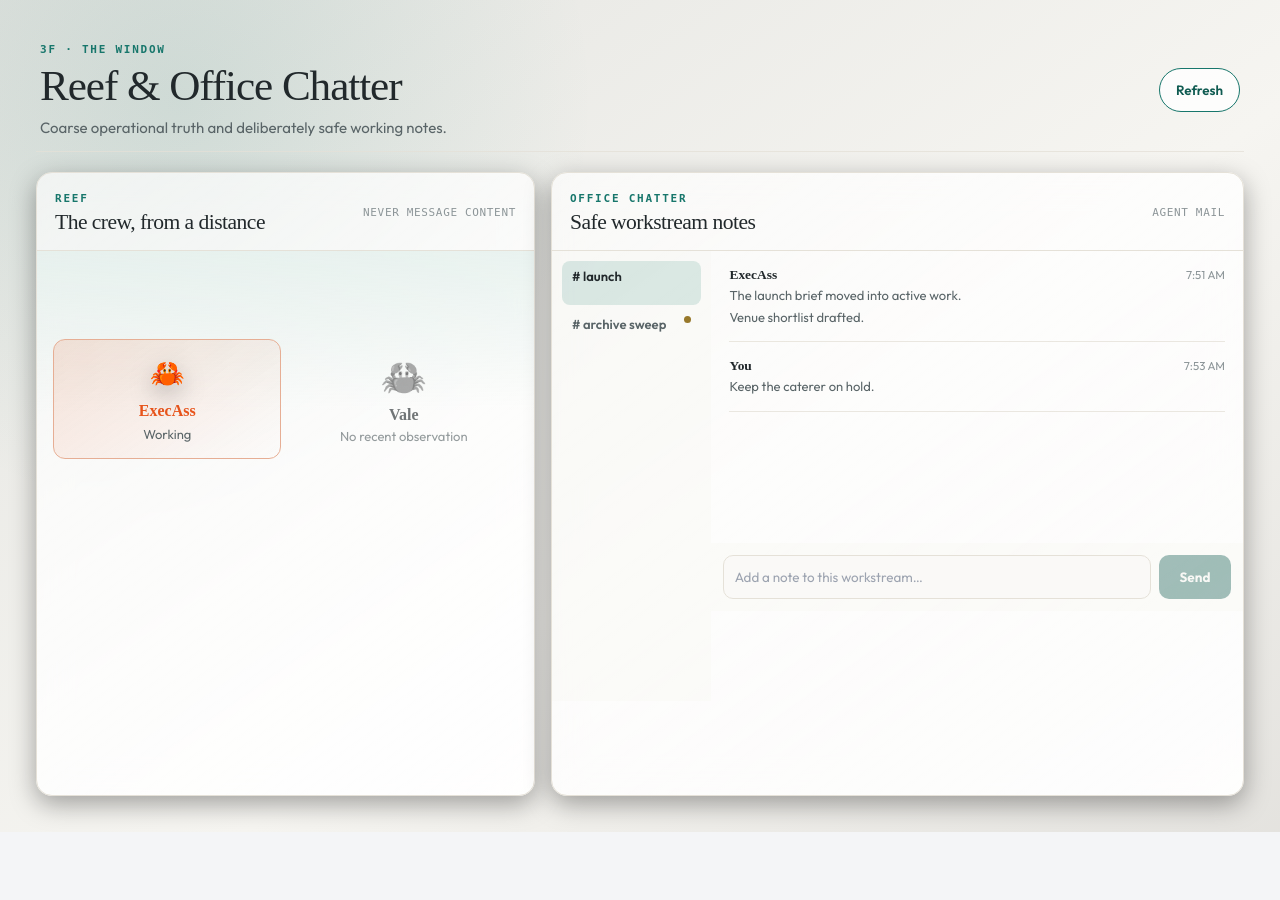
Test: Reef report cards › opens a report card with honest freshness and mood
Click the button "🦀 Vale No recent observation". click: (404, 398)
box: [290,338,518,458]
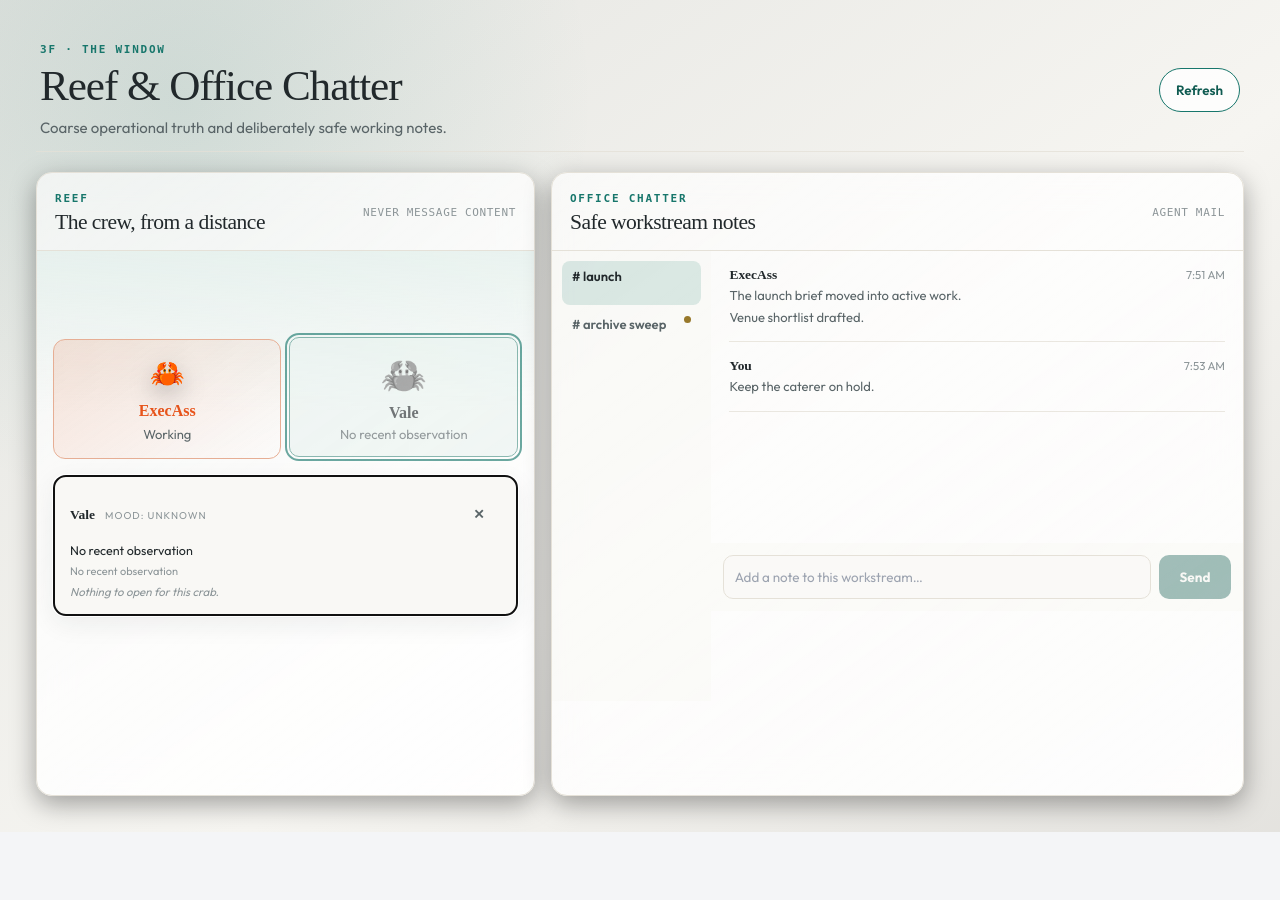
Expected: the element with test id "reef-report-card" is shown, [53,474,518,616]
Expected: the element with test id "reef-report-card" shows "Vale", [70,506,95,522]
Expected: the element with test id "reef-report-card" shows "No recent observation", [70,542,193,558]
